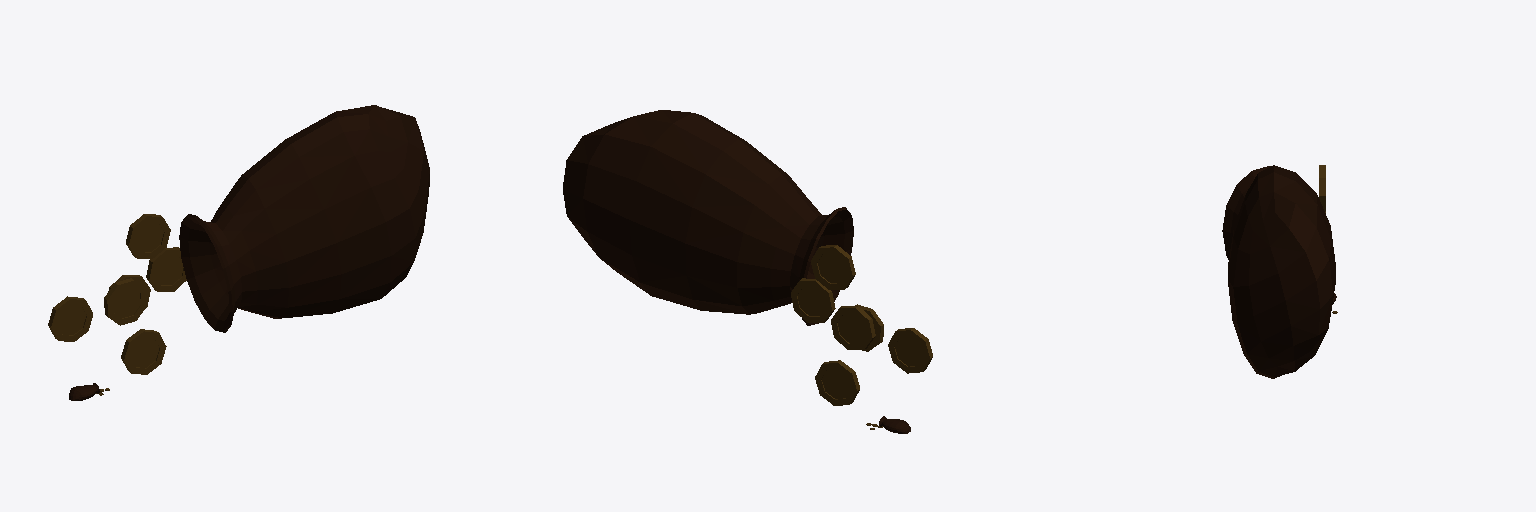
Rendered from Bag_Coins_Cylinder.obj.
3 renders of one model, left to right at view 1: azimuth 30°, elevation 25°; view 2: azimuth 150°, elevation 25°; view 3: azimuth 270°, elevation 25°, orthographic.
Parts seen in each view (by area): view 1: Bag_Coins_Cylinder.001; view 2: Bag_Coins_Cylinder.001; view 3: Bag_Coins_Cylinder.001.
Part boxes in pixels (bbox=[...]): Bag_Coins_Cylinder.001: bbox=[48, 105, 429, 374]; Bag_Coins_Cylinder.001: bbox=[563, 110, 932, 405]; Bag_Coins_Cylinder.001: bbox=[1222, 165, 1335, 378].
Size of the model in its own units: 3.95 by 2.49 by 1.06.